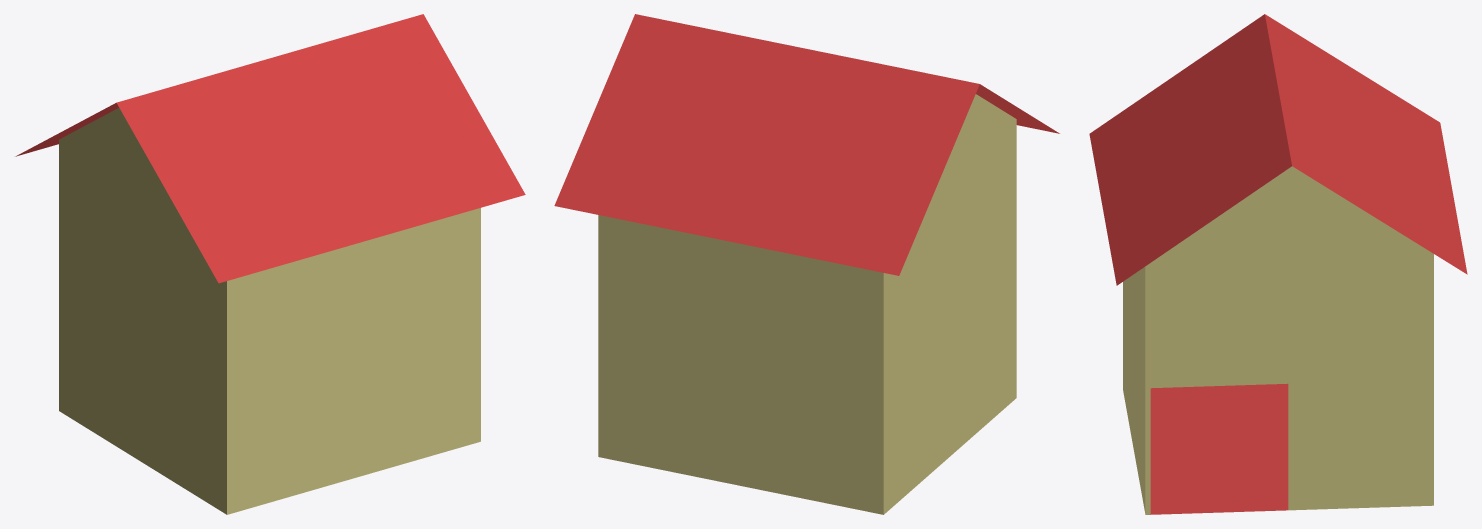
3 views of the same model, side by side, from view 1: azimuth 30°, elevation 25°; view 2: azimuth 150°, elevation 25°; view 3: azimuth 270°, elevation 25° (orthographic). The views are drawn at different scales.
Size of the model in its own units: 12.4 by 12.13 by 12.65.
